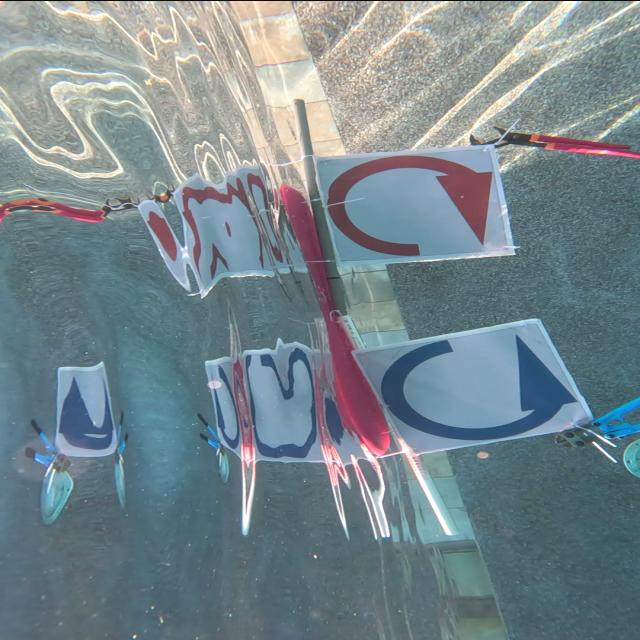blue_side: (370, 344, 576, 449)
red_side: (322, 152, 492, 258)
